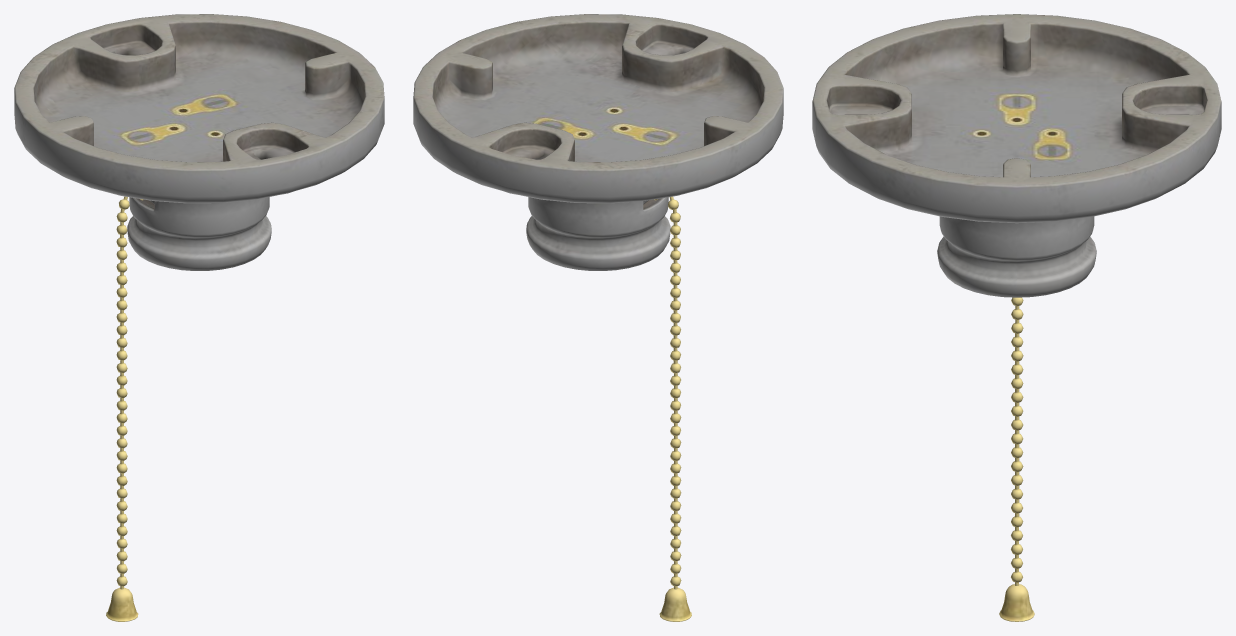
The model's file is bulb_socket.glb.
3 renders of one model, left to right at view 1: azimuth 30°, elevation 25°; view 2: azimuth 150°, elevation 25°; view 3: azimuth 270°, elevation 25°, orthographic. The views are drawn at different scales.
Visible parts, largest first — view 1: pull_chain_light_socket, pull_chain_light_socket_chain; view 2: pull_chain_light_socket, pull_chain_light_socket_chain; view 3: pull_chain_light_socket, pull_chain_light_socket_chain.
Part boxes in pixels (x1,y1,x2,y2): pull_chain_light_socket: (14,14,384,270); pull_chain_light_socket_chain: (106,196,138,621); pull_chain_light_socket: (413,14,783,270); pull_chain_light_socket_chain: (659,196,691,621); pull_chain_light_socket: (812,14,1221,297); pull_chain_light_socket_chain: (999,297,1034,621).
Size of the model in its own units: 0.1103 by 0.1654 by 0.1103.
1 material, 1 textured.
